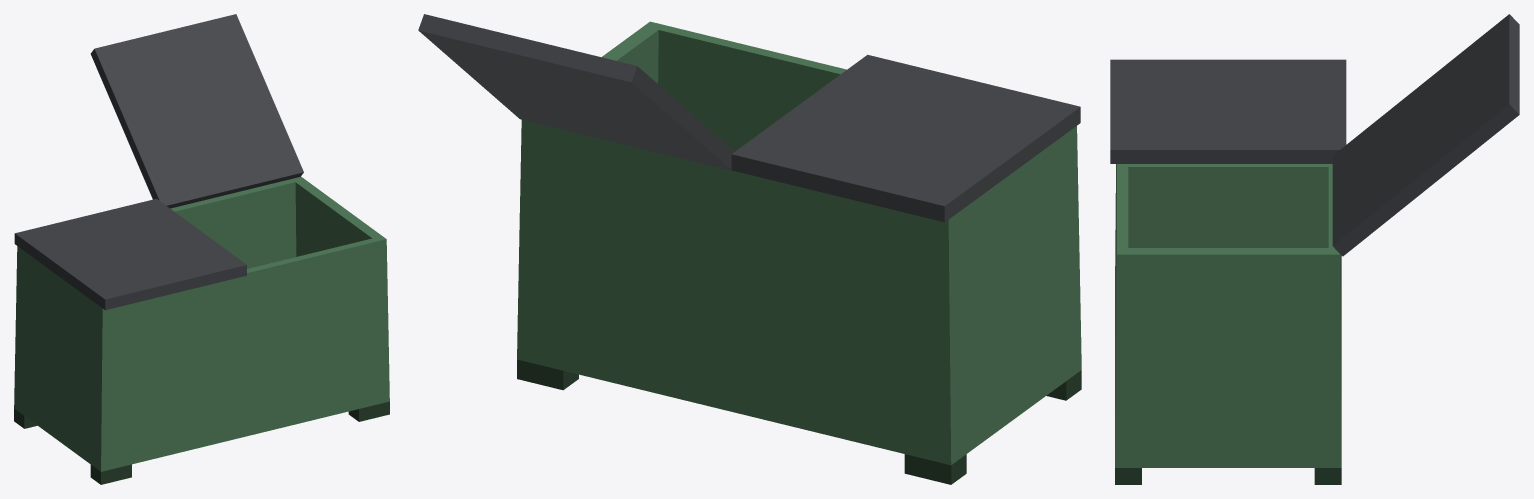
Rendered from Road_Objects_Big_Trash_Can.fbx.
3 renders of one model, left to right at view 1: azimuth 30°, elevation 25°; view 2: azimuth 150°, elevation 25°; view 3: azimuth 270°, elevation 25°, orthographic. The views are drawn at different scales.
Parts seen in each view (by area): view 1: Road_Objects_Big_Trash_Can; view 2: Road_Objects_Big_Trash_Can; view 3: Road_Objects_Big_Trash_Can.
Part boxes in pixels (bbox=[...]): Road_Objects_Big_Trash_Can: bbox=[14, 14, 389, 484]; Road_Objects_Big_Trash_Can: bbox=[418, 14, 1081, 484]; Road_Objects_Big_Trash_Can: bbox=[1110, 14, 1519, 484].
Size of the model in its own units: 203 by 195 by 191.
